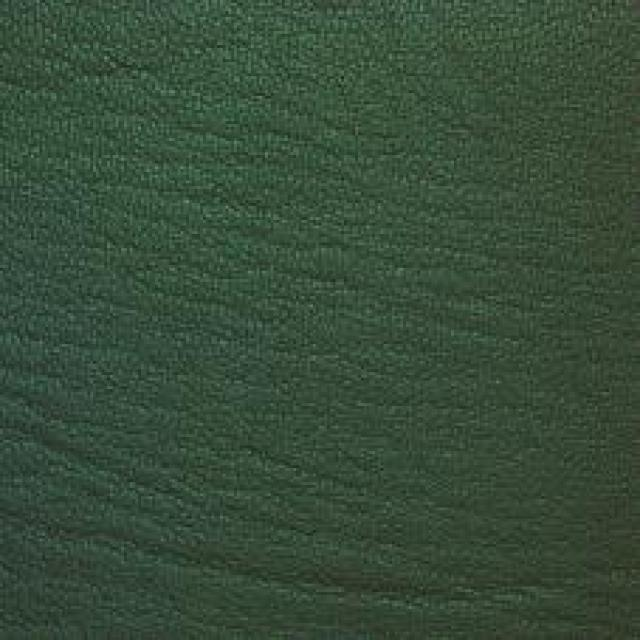Growth Marks: (258, 206, 614, 348), (308, 515, 607, 611), (36, 496, 267, 613)
